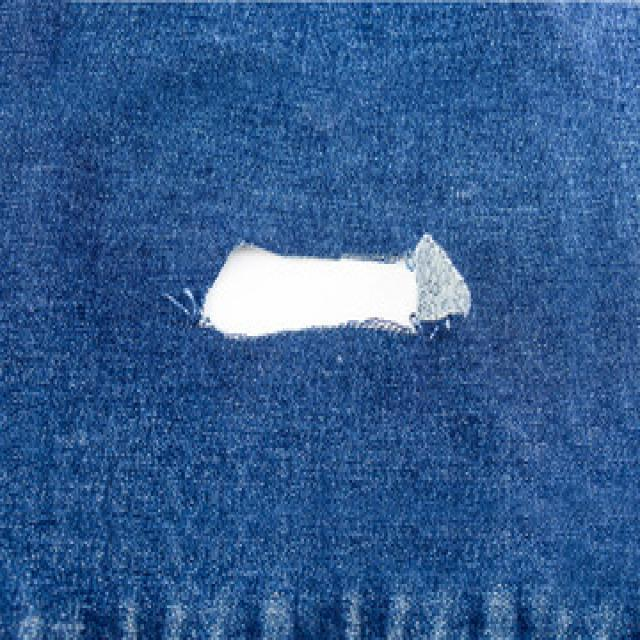Hole: (198, 234, 471, 338)
